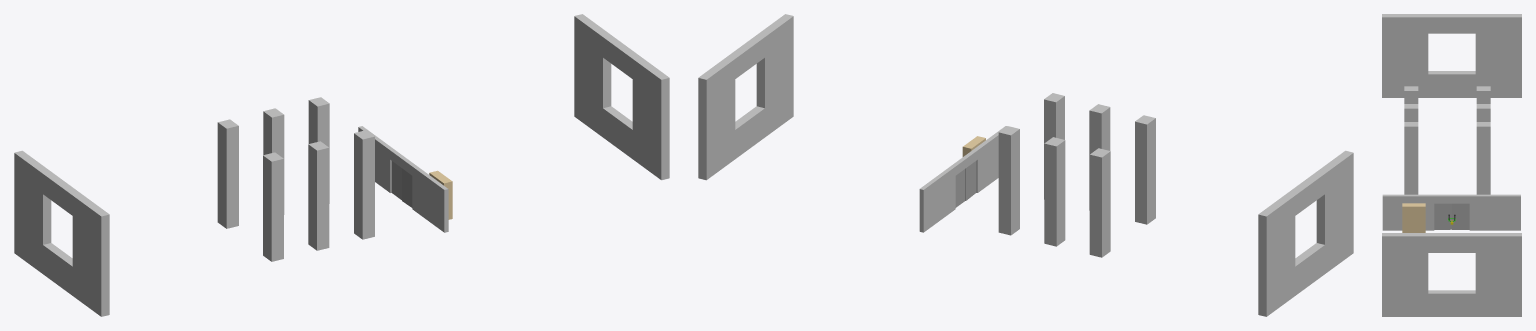
The model's file is walls.fbx.
3 views of the same model, side by side, from view 1: azimuth 30°, elevation 25°; view 2: azimuth 150°, elevation 25°; view 3: azimuth 270°, elevation 25° (orthographic). The views are drawn at different scales.
Parts seen in each view (by area): view 1: wall__1, wall_3, walll, colon_3, colon_5, colon_4, colon_6, colon_1, colon_2; view 2: wall__1, wall_3, walll, colon_3, colon_1, colon_2, colon_6, colon_5, colon_4; view 3: wall__1, wall_3, walll, colon_1, colon_4, cabine, door_2, door_1, colon_3, colon_2, colon_5, colon_6.
Boxes of the visible parts, <box> form: wall__1: <box>574,14,669,180</box>; wall_3: <box>14,150,109,316</box>; walll: <box>358,126,448,232</box>; colon_3: <box>217,119,238,228</box>; colon_5: <box>308,141,329,250</box>; colon_4: <box>354,130,374,239</box>; colon_6: <box>263,152,283,261</box>; colon_1: <box>308,97,329,203</box>; colon_2: <box>263,108,284,214</box>; wall__1: <box>698,14,793,180</box>; wall_3: <box>1258,150,1353,316</box>; walll: <box>919,126,1006,232</box>; colon_3: <box>1089,148,1110,257</box>; colon_1: <box>998,126,1019,235</box>; colon_2: <box>1044,137,1065,246</box>; colon_6: <box>1135,115,1155,224</box>; colon_5: <box>1089,104,1110,210</box>; colon_4: <box>1044,93,1064,199</box>; wall__1: <box>1382,233,1521,316</box>; wall_3: <box>1382,14,1521,97</box>; walll: <box>1382,194,1520,230</box>; colon_1: <box>1476,122,1490,194</box>; colon_4: <box>1404,122,1418,194</box>; cabine: <box>1402,203,1425,232</box>; door_2: <box>1452,203,1469,229</box>; door_1: <box>1434,203,1451,229</box>; colon_3: <box>1476,86,1490,103</box>; colon_2: <box>1476,104,1490,121</box>; colon_5: <box>1404,104,1418,121</box>; colon_6: <box>1404,86,1418,103</box>.
Bounding box in the file's own units: 8566 × 1447 × 2277.
